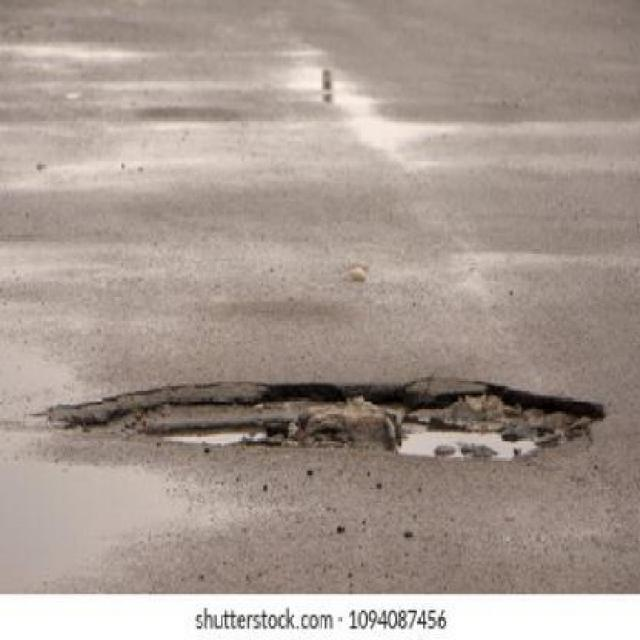Pothole: (31, 374, 606, 458)
